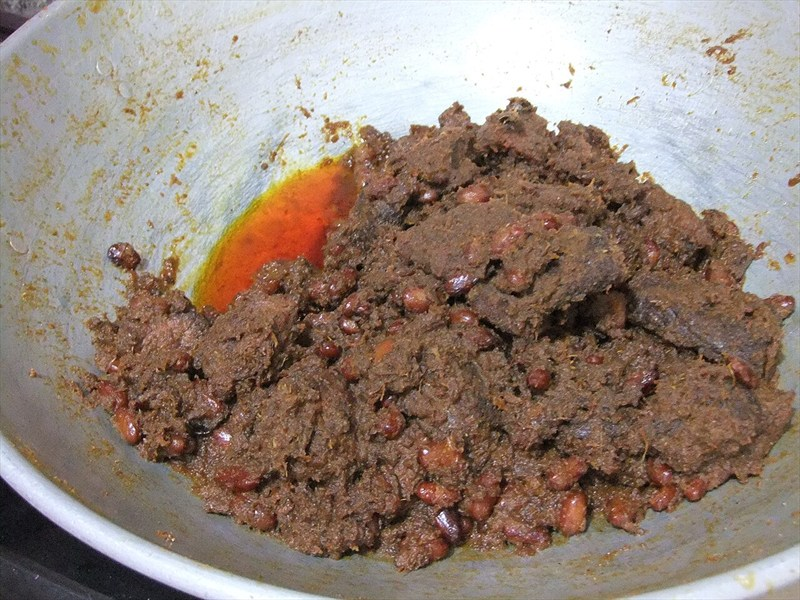Rendang: (97, 99, 678, 556)
